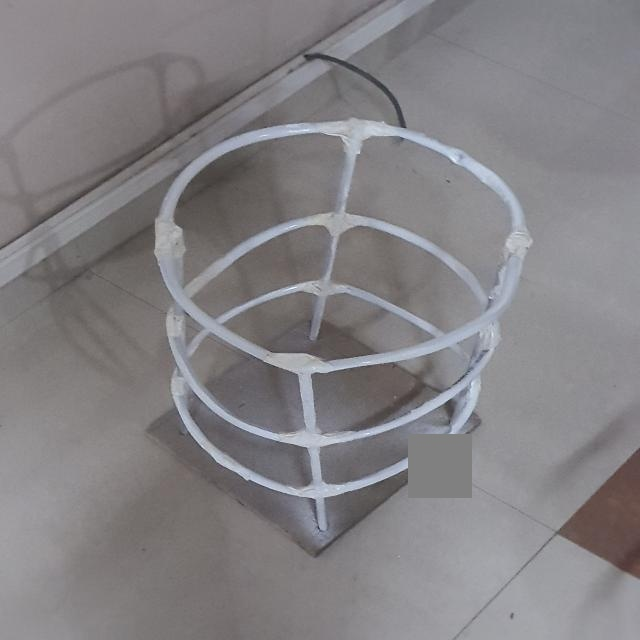silo: (141, 114, 536, 554)
